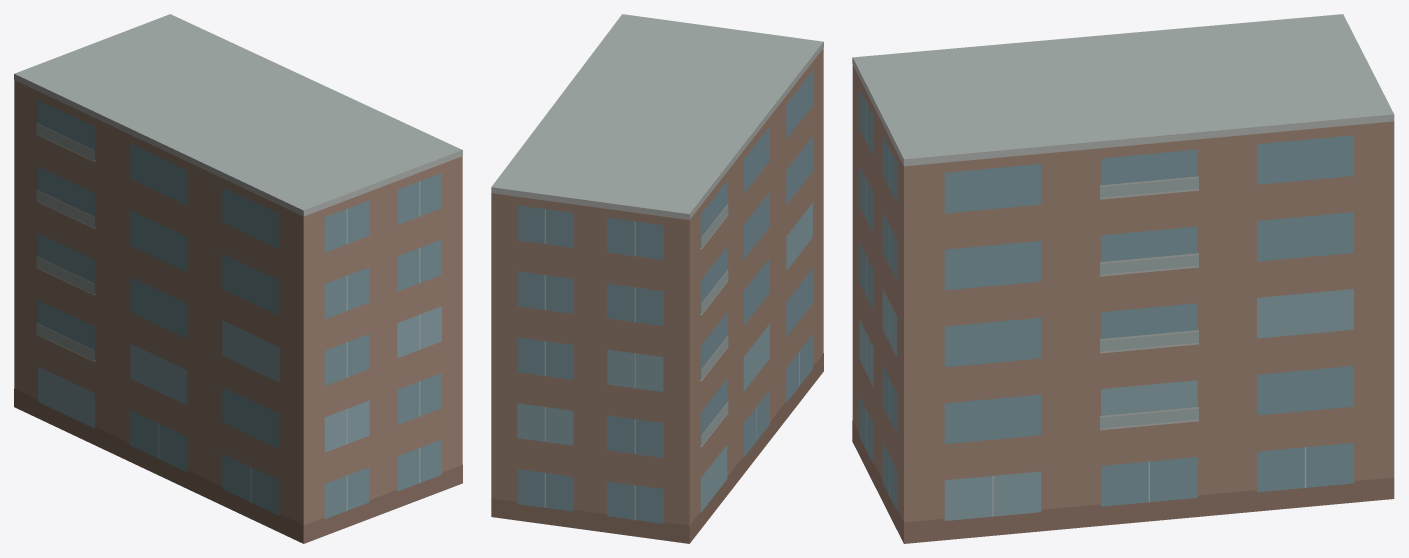
The model's file is survey-upis-32699312.glb.
3 renders of one model, left to right at view 1: azimuth 30°, elevation 25°; view 2: azimuth 150°, elevation 25°; view 3: azimuth 270°, elevation 25°, orthographic. The views are drawn at different scales.
Parts seen in each view (by area): view 1: survey-upis-32699312.tmp; view 2: survey-upis-32699312.tmp; view 3: survey-upis-32699312.tmp.
Part boxes in pixels (box(x1,y1,x2,y2)): survey-upis-32699312.tmp: box(14, 14, 462, 543); survey-upis-32699312.tmp: box(491, 14, 823, 543); survey-upis-32699312.tmp: box(852, 14, 1394, 543).
Size of the model in its own units: 10.96 by 13.5 by 17.25.
